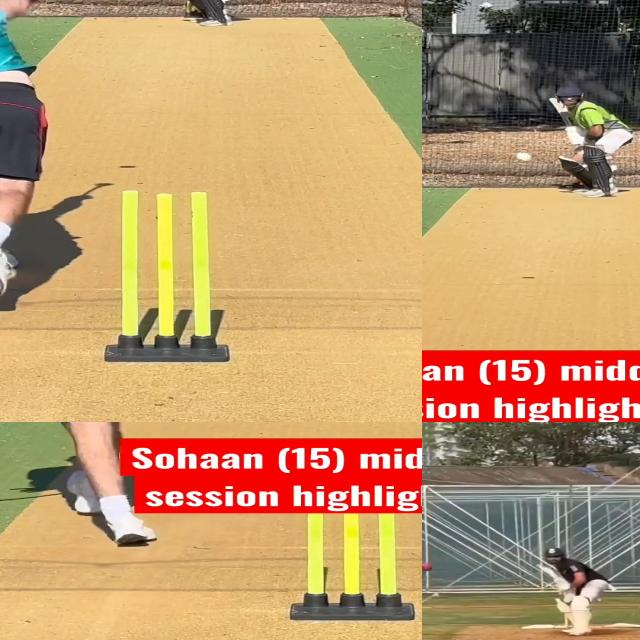Cricket ball: (515, 150, 532, 162), (422, 561, 434, 571)
Stumps: (293, 513, 415, 622)
